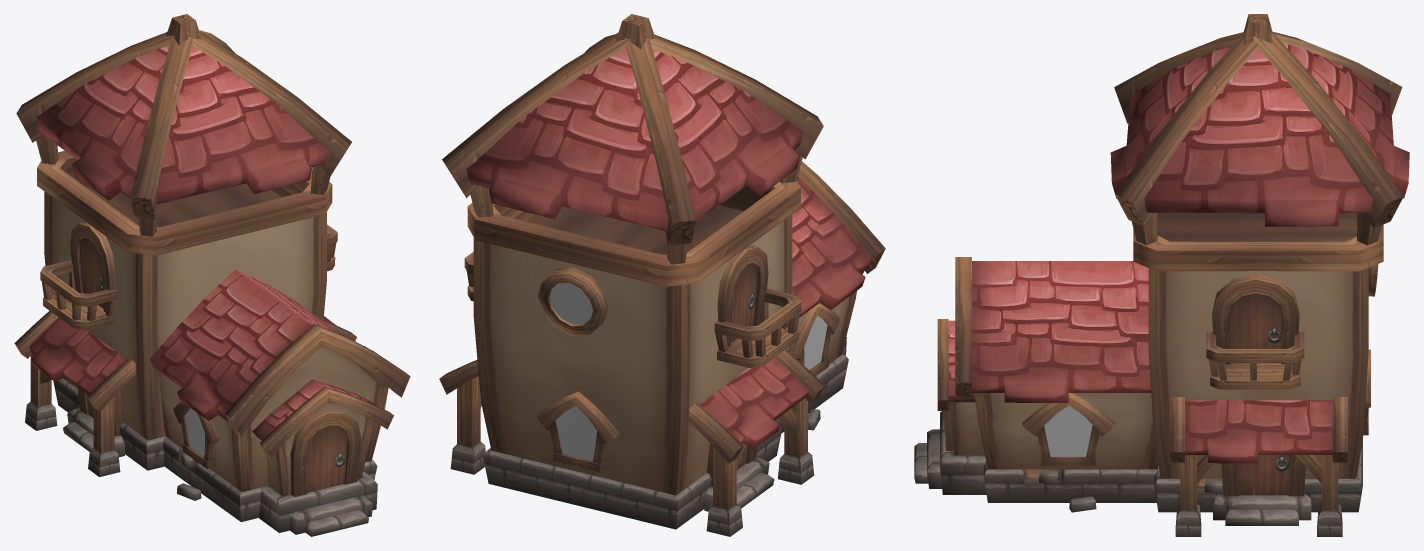
The model's file is building-6.FBX.
The picture shows the model from 3 angles, left to right: view 1: azimuth 30°, elevation 25°; view 2: azimuth 150°, elevation 25°; view 3: azimuth 270°, elevation 25°; orthographic projection. The views are drawn at different scales.
Parts seen in each view (by area): view 1: building-6, building-6 - lights on; view 2: building-6, building-6 - lights on; view 3: building-6, building-6 - lights on.
Part boxes in pixels (x1,y1,x2,y2): building-6: (14,14,410,536); building-6 - lights on: (184,408,204,456); building-6: (439,14,885,536); building-6 - lights on: (549,282,827,461); building-6: (914,14,1409,536); building-6 - lights on: (1044,406,1092,456).
Size of the model in its own units: 1352 by 1952 by 1948.
